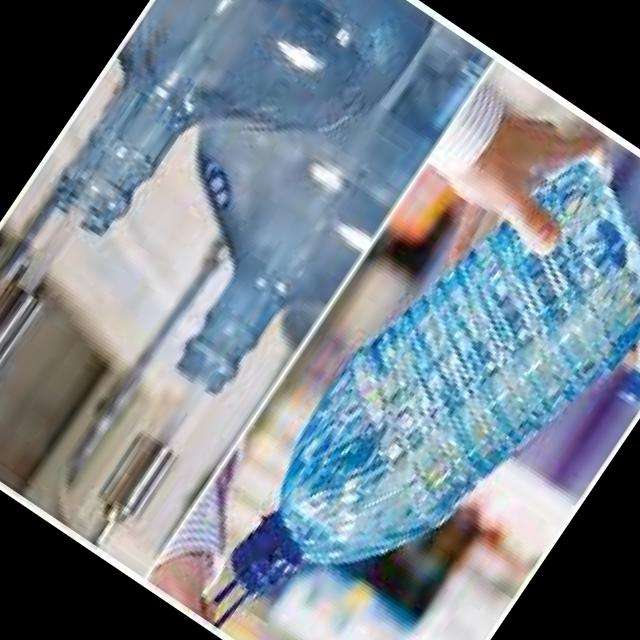Galon: (208, 104, 640, 640), (0, 0, 498, 429)
